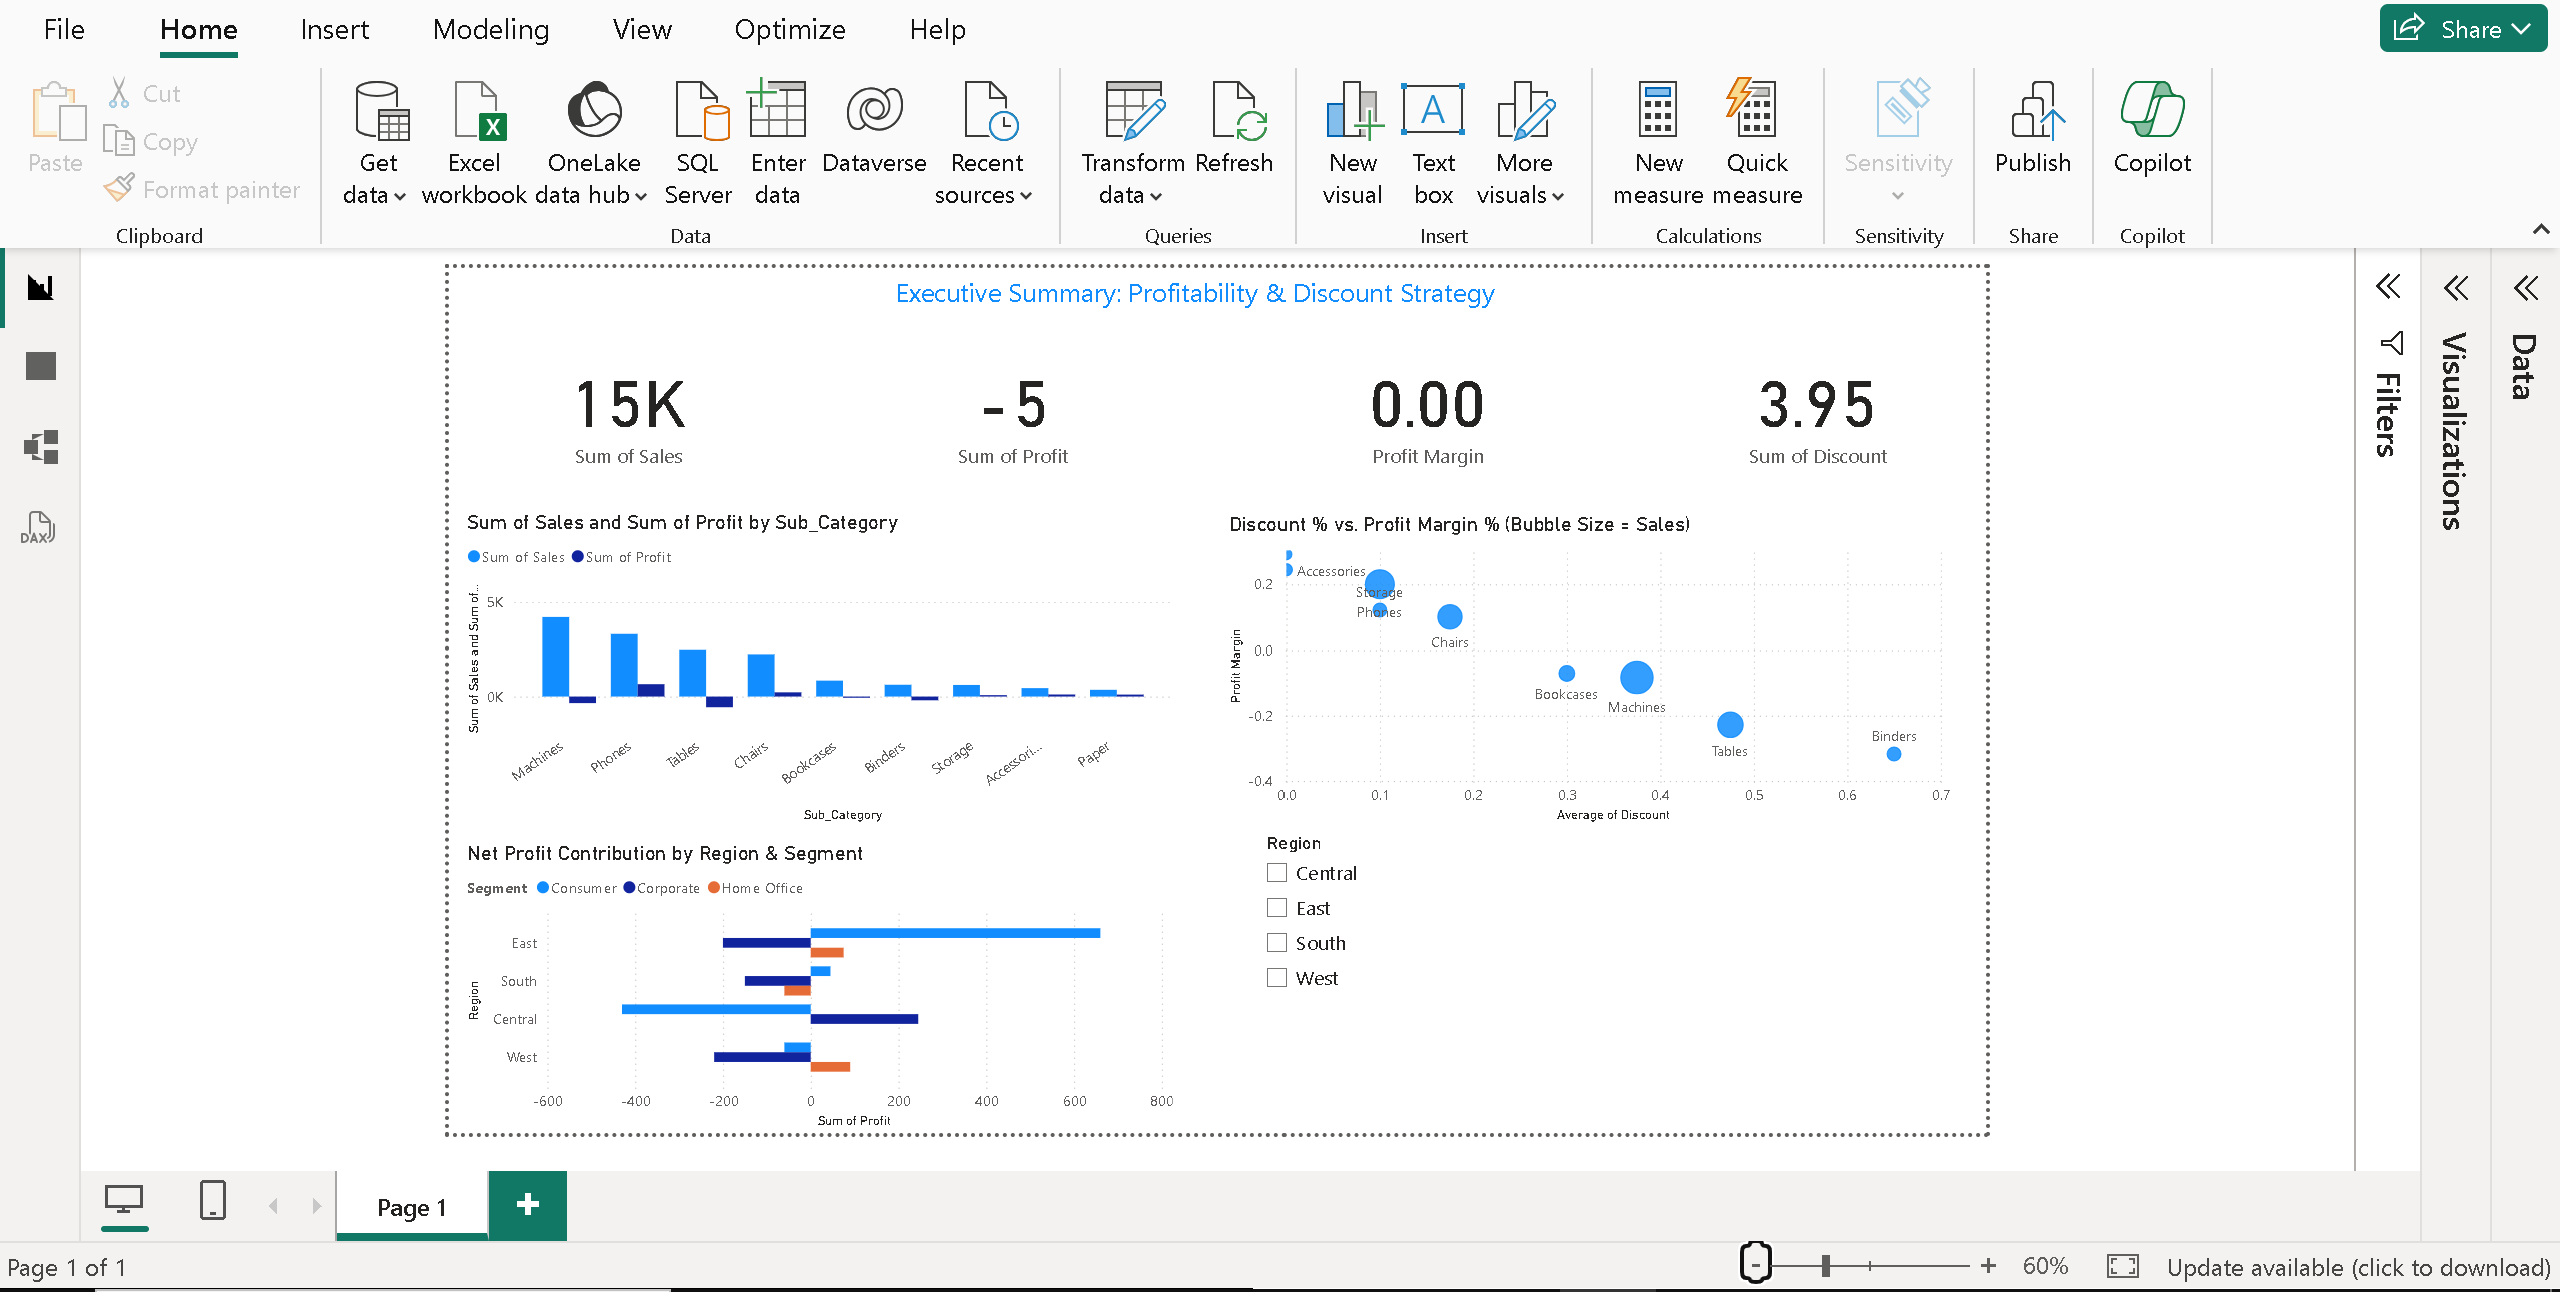

This screenshot's page, from the dashboard's own definition file:
{"tool":"powerbi","page":{"name":"Page 1","canvas":[1280,720],"ordinal":0},"visuals":[{"type":"textbox","box":[9.5,0,1222.3,41.3],"z":0},{"type":"card","fields":{"Values":["Sum(Superstore_Data.Sales)"]},"box":[9.5,63.6,279.7,108.1],"z":1000},{"type":"card","fields":{"Values":["Sum(Superstore_Data.Profit)"]},"box":[330.6,63.6,279.7,108.1],"z":2000},{"type":"card","fields":{"Values":["Superstore_Data.Profit Margin"]},"box":[675.5,63.6,279.7,108.1],"z":3000},{"type":"card","fields":{"Values":["Sum(Superstore_Data.Discount)"]},"box":[999.7,63.6,279.7,108.1],"z":4000},{"type":"clusteredColumnChart","fields":{"Category":["Superstore_Data.Sub_Category"],"Y":["Sum(Superstore_Data.Sales)","Sum(Superstore_Data.Profit)"]},"box":[9.5,201.9,597.6,263.8],"z":5000},{"type":"scatterChart","title":"Discount % vs. Profit Margin % (Bubble Size = Sales)","fields":{"X":["Avg(Superstore_Data.Discount)"],"Y":["Superstore_Data.Profit Margin"],"Category":["Superstore_Data.Sub_Category"],"Size":["Sum(Superstore_Data.Sales)"]},"box":[645.3,203.4,610.3,262.3],"z":6000},{"type":"clusteredBarChart","title":"Net Profit Contribution by Region & Segment","fields":{"Series":["Superstore_Data.Segment"],"Category":["Superstore_Data.Region"],"Y":["Sum(Superstore_Data.Profit)"]},"box":[10,476,598,244],"z":7000},{"type":"slicer","fields":{"Values":["Superstore_Data.Region"]},"box":[669.1,465.7,610.3,244.8],"z":8000}]}

Visuals, with their boxes on the page's 1280x720 design canvas (x1, y1, x2, y2). These are canvas units, not pixel positions in the 2560x1292 screenshot, which may show the page scaled, cropped or inside an application window:
textbox: (left=10, top=0, right=1232, bottom=41)
card - Sum(Superstore_Data.Sales): (left=10, top=64, right=289, bottom=172)
card - Sum(Superstore_Data.Profit): (left=331, top=64, right=610, bottom=172)
card - Superstore_Data.Profit Margin: (left=676, top=64, right=955, bottom=172)
card - Sum(Superstore_Data.Discount): (left=1000, top=64, right=1279, bottom=172)
clusteredColumnChart - Superstore_Data.Sub_Category x Sum(Superstore_Data.Sales): (left=10, top=202, right=607, bottom=466)
"Discount % vs. Profit Margin % (Bubble Size = Sales)" scatterChart: (left=645, top=203, right=1256, bottom=466)
"Net Profit Contribution by Region & Segment" clusteredBarChart: (left=10, top=476, right=608, bottom=720)
slicer - Superstore_Data.Region: (left=669, top=466, right=1279, bottom=710)
